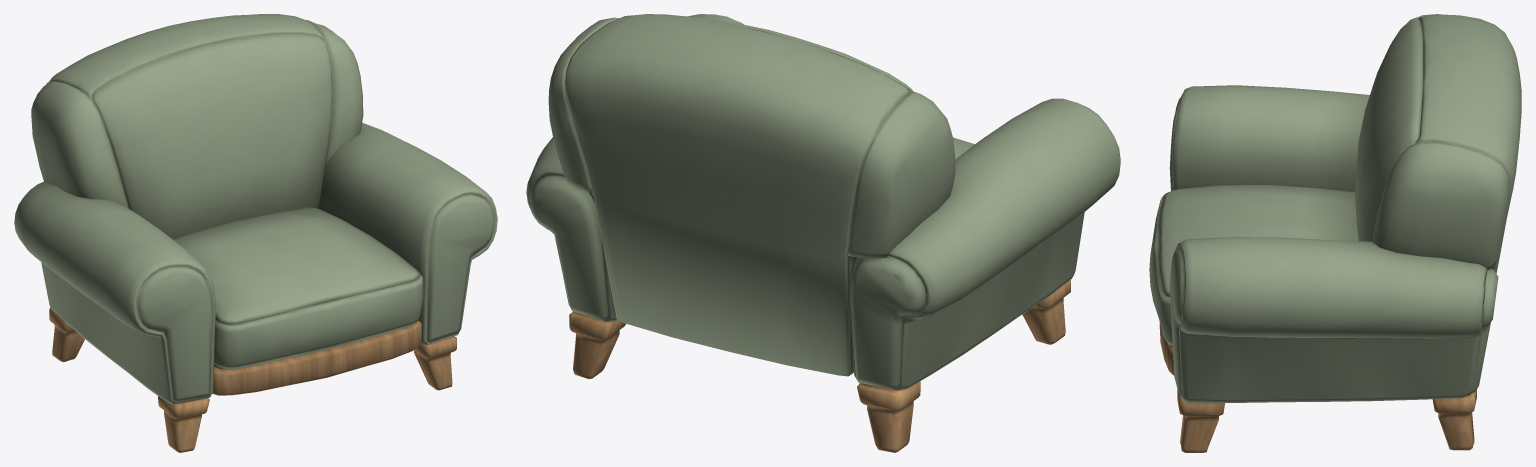
Rendered from armchair.glb.
The picture shows the model from 3 angles, left to right: view 1: azimuth 30°, elevation 25°; view 2: azimuth 150°, elevation 25°; view 3: azimuth 270°, elevation 25°; orthographic projection. The views are drawn at different scales.
Parts seen in each view (by area): view 1: armchair; view 2: armchair; view 3: armchair.
Boxes of the visible parts, x1,y1,x2,y2 form: armchair: (14, 14, 497, 452); armchair: (526, 14, 1120, 452); armchair: (1149, 14, 1521, 452).
Size of the model in its own units: 0.9863 by 0.7598 by 0.7852.
Materials: 1 (1 with a texture image).
